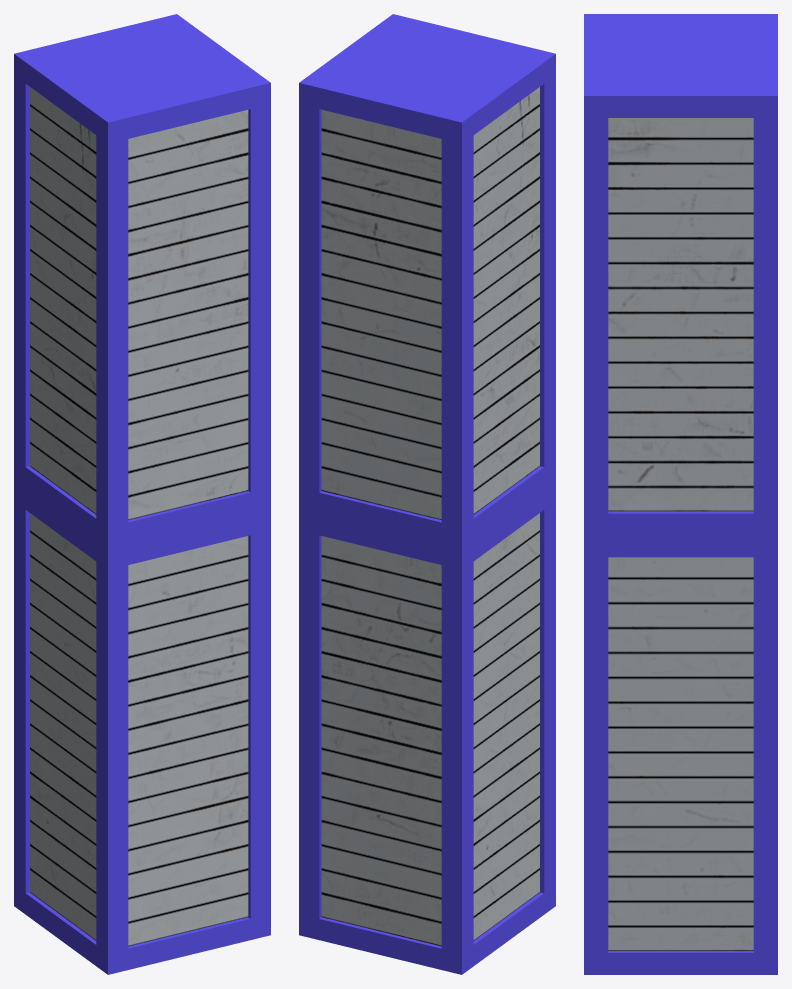
The model's file is CeilingSupport_Pillar_01.FBX.
3 renders of one model, left to right at view 1: azimuth 30°, elevation 25°; view 2: azimuth 150°, elevation 25°; view 3: azimuth 270°, elevation 25°, orthographic. The views are drawn at different scales.
Parts seen in each view (by area): view 1: CeilingSupport_Pillar_01; view 2: CeilingSupport_Pillar_01; view 3: CeilingSupport_Pillar_01.
Boxes of the visible parts, x1,y1,x2,y2 form: CeilingSupport_Pillar_01: (14,14,270,974); CeilingSupport_Pillar_01: (299,14,555,974); CeilingSupport_Pillar_01: (584,14,777,974).
Bounding box in the file's own units: 0.8 × 4 × 0.8.
2 materials, 1 textured.
